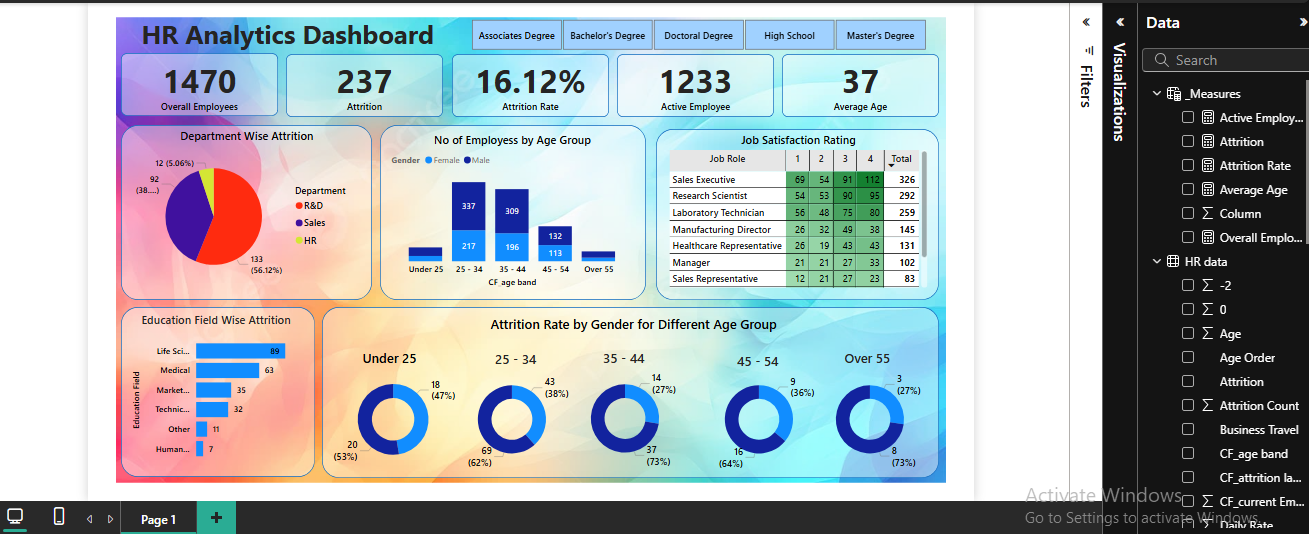

Layout of this report page (visuals, bound fields, positions):
{"tool":"powerbi","page":{"name":"Page 1","canvas":[1280,720],"ordinal":0},"visuals":[{"type":"shape","box":[48.2,72.9,227.1,90.8],"z":0},{"type":"shape","box":[286.3,73.7,227,91.1],"z":1000},{"type":"shape","box":[526.3,73.7,227,91.1],"z":2000},{"type":"shape","box":[764.8,73.7,227,91.1],"z":3000},{"type":"shape","box":[1003.4,73.7,227,91.1],"z":4000},{"type":"card","fields":{"Values":["_Measures.Overall Employees"]},"box":[47.7,73.7,227,91.1],"z":5000},{"type":"card","fields":{"Values":["_Measures.Attrition Rate"]},"box":[526.3,73.7,227,91.1],"z":6000},{"type":"card","fields":{"Values":["_Measures.Attrition"]},"box":[286.3,73.7,227,91.1],"z":7000},{"type":"card","fields":{"Values":["_Measures.Active Employee"]},"box":[764.8,73.7,227,91.1],"z":8000},{"type":"card","fields":{"Values":["_Measures.Average Attrition"]},"box":[1003.4,73.7,227,91.1],"z":9000},{"type":"shape","box":[47.7,176.4,362.9,253],"z":10000},{"type":"pieChart","title":"Department Wise Attrition","fields":{"Category":["HR data.Department"],"Y":["_Measures.Attrition"]},"box":[58.8,181.4,341,235.2],"z":11000},{"type":"shape","box":[422.2,176.4,384.6,253],"z":12000},{"type":"shape","box":[821.2,182.2,409.2,247.2],"z":13000},{"type":"columnChart","title":"No of Employess by Age Group","fields":{"Category":["HR data.CF_age band"],"Series":["HR data.Gender"],"Y":["Sum(HR data.Employee Count)"]},"box":[433.7,186.5,360,229.9],"z":14000},{"type":"pivotTable","title":"Job Satisfaction Rating","fields":{"Rows":["HR data.Job Role"],"Columns":["HR data.Job Satisfaction"],"Values":["Sum(HR data.Employee Count)"]},"box":[835.7,186.5,383.1,229.9],"z":15000},{"type":"shape","box":[47.7,439.5,280.5,245.8],"z":16000},{"type":"barChart","title":"Education Field Wise Attrition","fields":{"Category":["HR data.Education Field"],"Y":["_Measures.Attrition"]},"box":[59.3,446.7,251.6,225.5],"z":17000},{"type":"shape","box":[338.3,439.5,892,247.2],"z":18000},{"type":"donutChart","fields":{"Series":["HR data.CF_age band"],"Category":["HR data.Gender"],"Y":["Sum(HR data.Attrition Count)"]},"box":[344.1,524.4,194.1,154.2],"z":19000},{"type":"donutChart","fields":{"Series":["HR data.CF_age band"],"Category":["HR data.Gender"],"Y":["Sum(HR data.Attrition Count)"]},"box":[524.4,524.4,176.2,154.2],"z":20000},{"type":"donutChart","fields":{"Series":["HR data.CF_age band"],"Category":["HR data.Gender"],"Y":["Sum(HR data.Attrition Count)"]},"box":[688.7,524.1,176.4,154.5],"z":21000},{"type":"donutChart","fields":{"Series":["HR data.CF_age band"],"Category":["HR data.Gender"],"Y":["Sum(HR data.Attrition Count)"]},"box":[882.2,524.4,176.2,154.2],"z":22000},{"type":"donutChart","fields":{"Series":["HR data.CF_age band"],"Category":["HR data.Gender"],"Y":["Sum(HR data.Attrition Count)"]},"box":[1041.9,524.4,176.2,154.2],"z":23000},{"type":"textbox","box":[576.9,446.7,433.7,39],"z":24000},{"type":"textbox","box":[391.8,495.9,104.1,37.6],"z":25000},{"type":"textbox","box":[578.3,497.3,76.6,37.6],"z":26000},{"type":"textbox","box":[734.5,495.9,76.6,37.6],"z":27000},{"type":"textbox","box":[928.2,500.2,76.6,37.6],"z":28000},{"type":"textbox","box":[1088.7,495.9,76.6,37.6],"z":29000},{"type":"textbox","box":[72.9,15.1,441.8,64.7],"z":30000},{"type":"slicer","fields":{"Values":["HR data.Education"]},"box":[529.1,16.8,705.5,57.1],"z":31000}]}

Visuals, with their boxes on the page's 1280x720 design canvas (x1, y1, x2, y2). These are canvas units, not pixel positions in the 1309x534 screenshot, which may show the page scaled, cropped or inside an application window:
shape: [x1=48, y1=73, x2=275, y2=164]
shape: [x1=286, y1=74, x2=513, y2=165]
shape: [x1=526, y1=74, x2=753, y2=165]
shape: [x1=765, y1=74, x2=992, y2=165]
shape: [x1=1003, y1=74, x2=1230, y2=165]
card - _Measures.Overall Employees: [x1=48, y1=74, x2=275, y2=165]
card - _Measures.Attrition Rate: [x1=526, y1=74, x2=753, y2=165]
card - _Measures.Attrition: [x1=286, y1=74, x2=513, y2=165]
card - _Measures.Active Employee: [x1=765, y1=74, x2=992, y2=165]
card - _Measures.Average Attrition: [x1=1003, y1=74, x2=1230, y2=165]
shape: [x1=48, y1=176, x2=411, y2=429]
"Department Wise Attrition" pieChart: [x1=59, y1=181, x2=400, y2=417]
shape: [x1=422, y1=176, x2=807, y2=429]
shape: [x1=821, y1=182, x2=1230, y2=429]
"No of Employess by Age Group" columnChart: [x1=434, y1=186, x2=794, y2=416]
"Job Satisfaction Rating" pivotTable: [x1=836, y1=186, x2=1219, y2=416]
shape: [x1=48, y1=440, x2=328, y2=685]
"Education Field Wise Attrition" barChart: [x1=59, y1=447, x2=311, y2=672]
shape: [x1=338, y1=440, x2=1230, y2=687]
donutChart - HR data.CF_age band x HR data.Gender: [x1=344, y1=524, x2=538, y2=679]
donutChart - HR data.CF_age band x HR data.Gender: [x1=524, y1=524, x2=701, y2=679]
donutChart - HR data.CF_age band x HR data.Gender: [x1=689, y1=524, x2=865, y2=679]
donutChart - HR data.CF_age band x HR data.Gender: [x1=882, y1=524, x2=1058, y2=679]
donutChart - HR data.CF_age band x HR data.Gender: [x1=1042, y1=524, x2=1218, y2=679]
textbox: [x1=577, y1=447, x2=1011, y2=486]
textbox: [x1=392, y1=496, x2=496, y2=534]
textbox: [x1=578, y1=497, x2=655, y2=535]
textbox: [x1=734, y1=496, x2=811, y2=534]
textbox: [x1=928, y1=500, x2=1005, y2=538]
textbox: [x1=1089, y1=496, x2=1165, y2=534]
textbox: [x1=73, y1=15, x2=515, y2=80]
slicer - HR data.Education: [x1=529, y1=17, x2=1235, y2=74]
